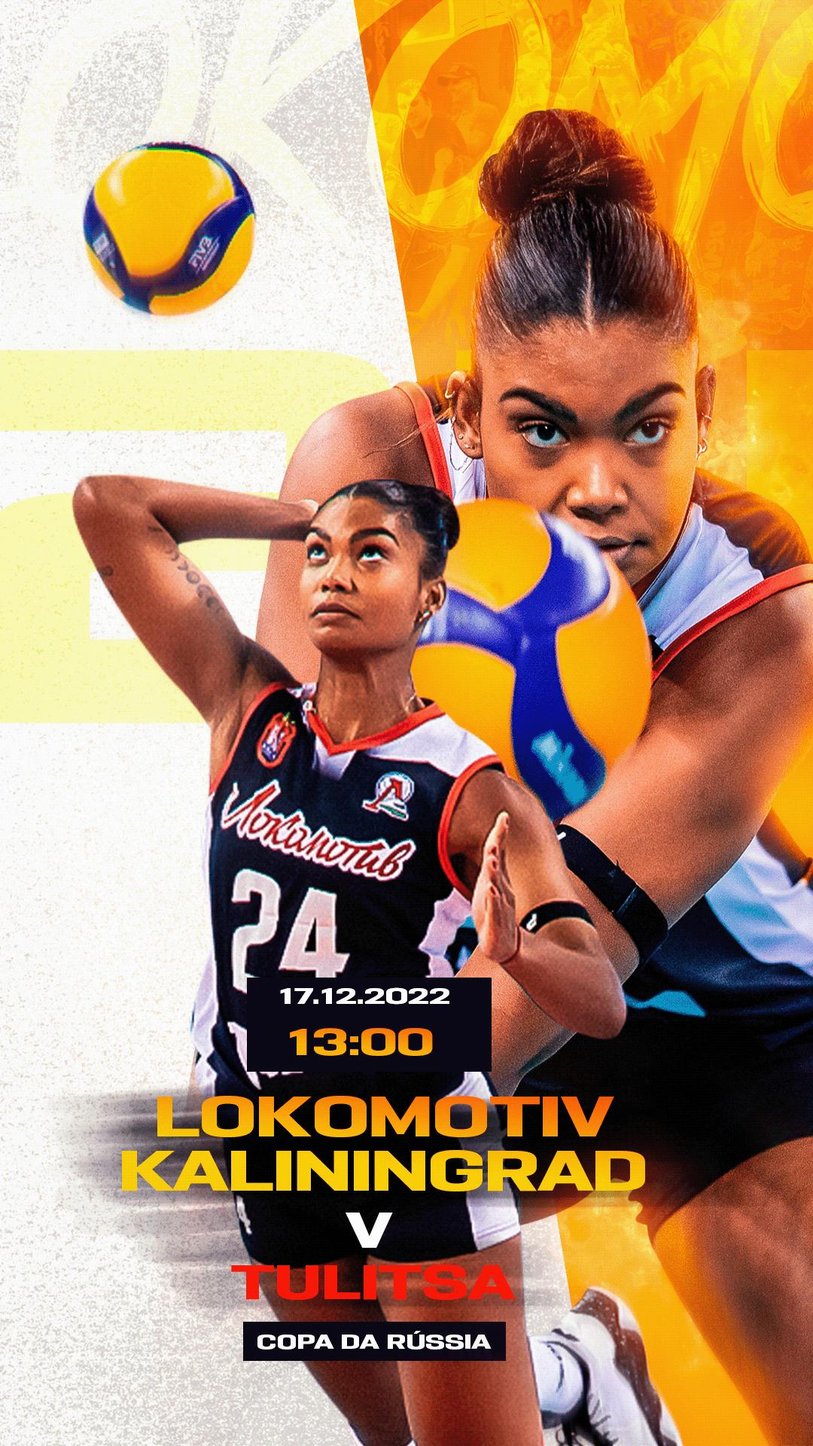ballon_volley: (386, 496, 653, 824), (78, 143, 257, 319)
